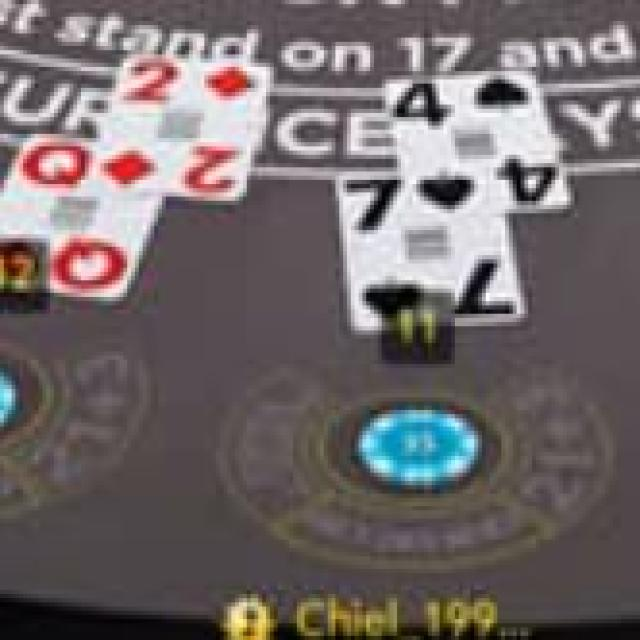Card-2: (94, 50, 274, 202)
Card-4: (382, 68, 574, 214)
Card-7: (338, 170, 527, 334)
Card-Q: (0, 128, 164, 304)
